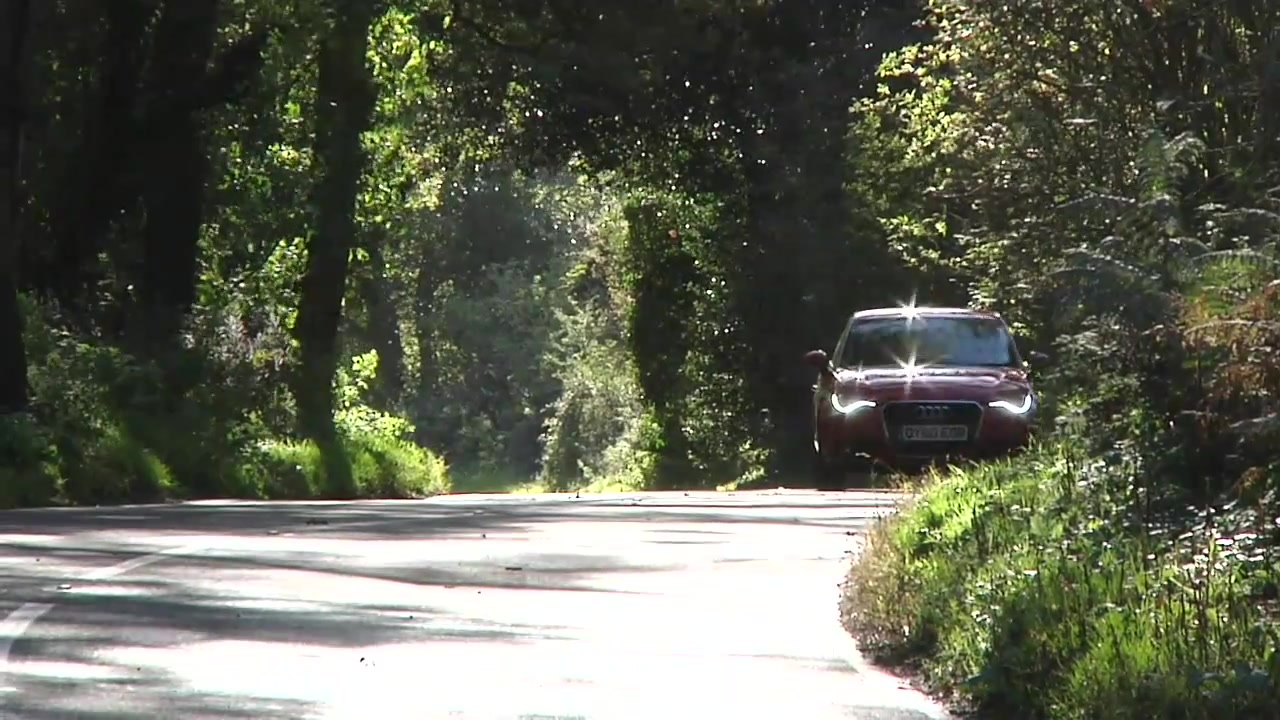car: (800, 304, 1042, 485)
